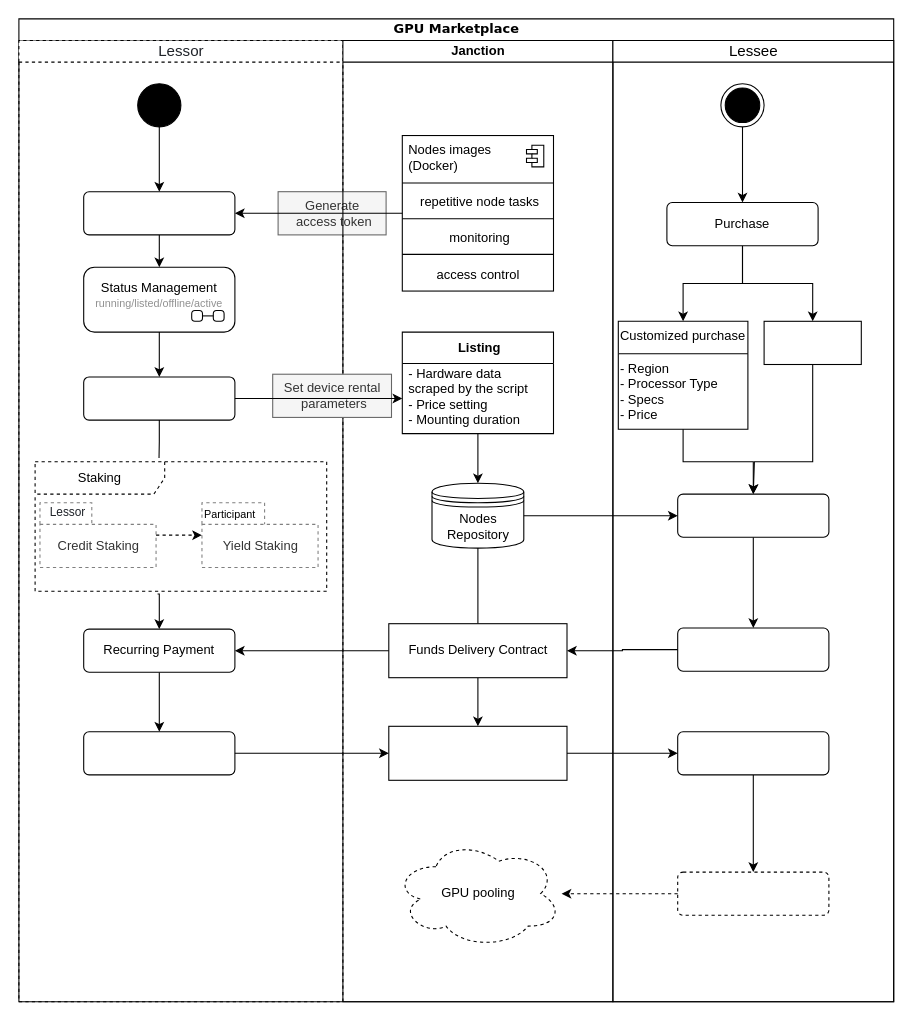
Image size: 913x1021. Some labels were removed from this diagram. Each missing label, with the centre of its shape:
"Access Granting" goes at [159,753].
"Cluster Tasks" goes at [753,893].
"Deploy nodes" goes at [159,213].
"Nodes Listing" goes at [159,398].
"One-Time Payment with USDT/JCT" goes at [753,649].
"Quick purchase ( Processor Type )" goes at [812,342].
"Recommendation" goes at [753,515].
"Task Deployment" goes at [753,753].
"Webshell" goes at [477,752].
